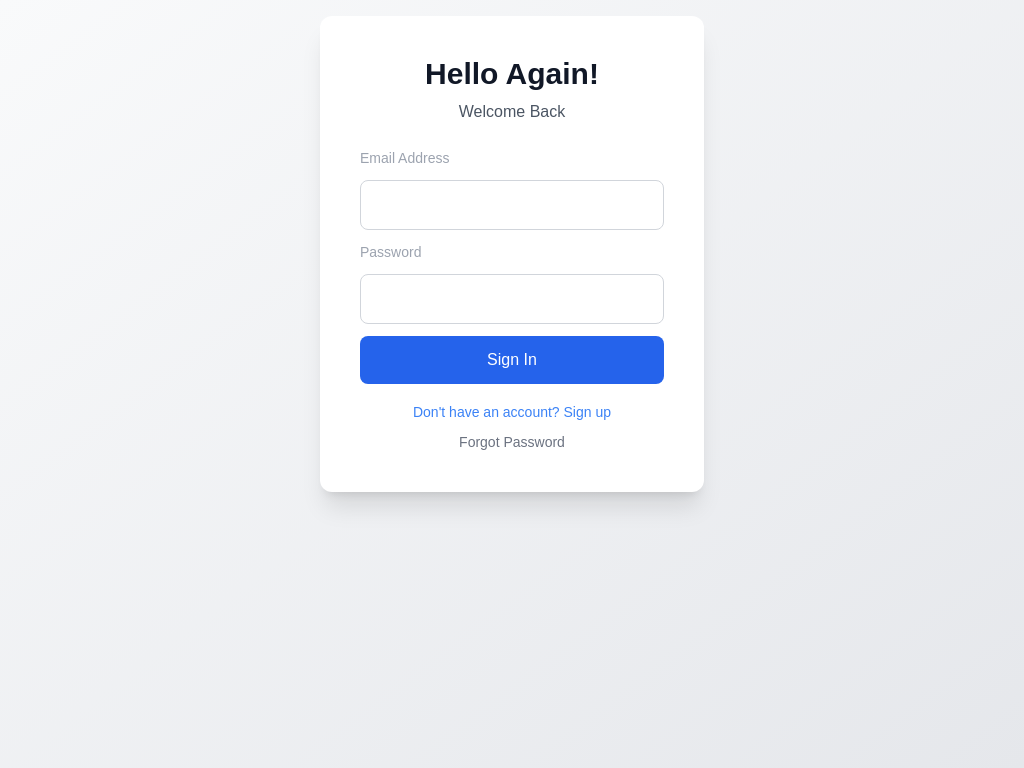
Shows error message for incorrect email
The width and height of the screenshot is (1024, 768).
Type "incorrect@email.com" into the field labelled "Email Address" at point(512, 205), box [360, 180, 664, 230]
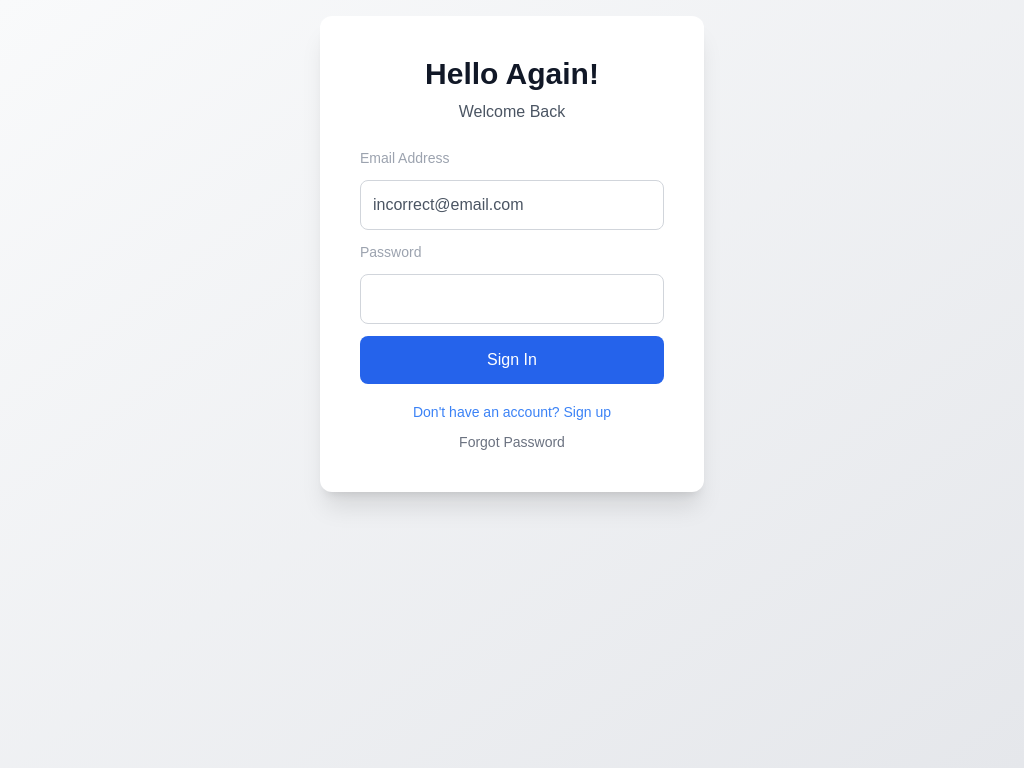
Type "password123" into the password field labelled "Password" at point(512, 299), box [360, 274, 664, 324]
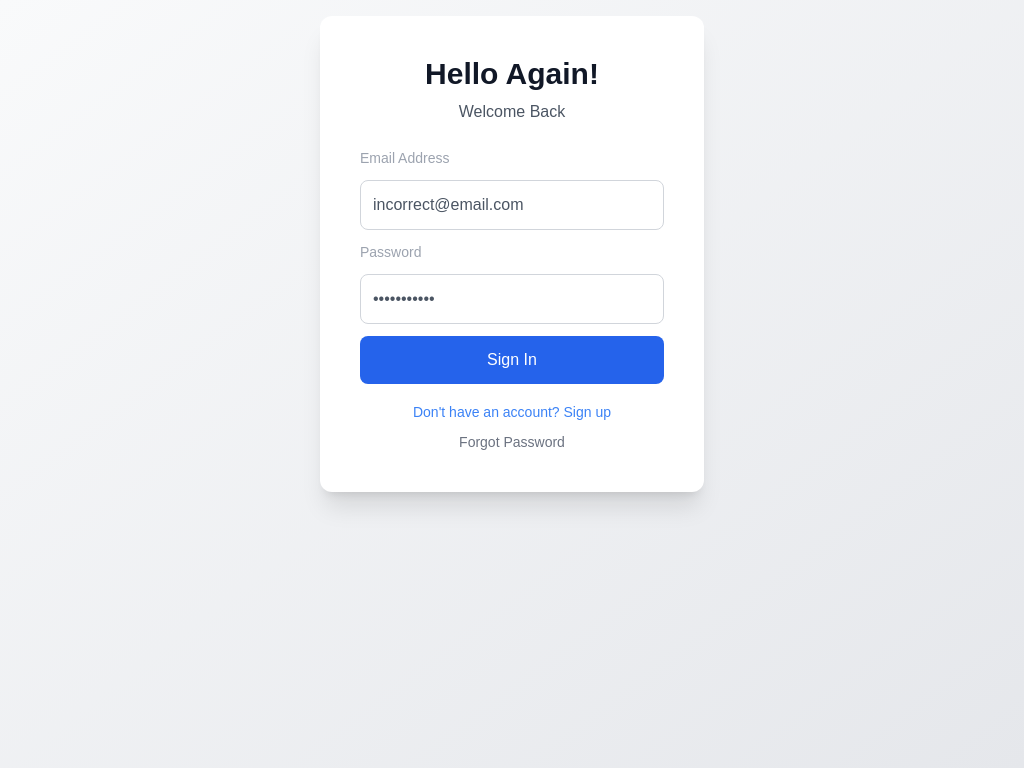
Click the button "Sign In" at point(512, 360), box [360, 336, 664, 384]
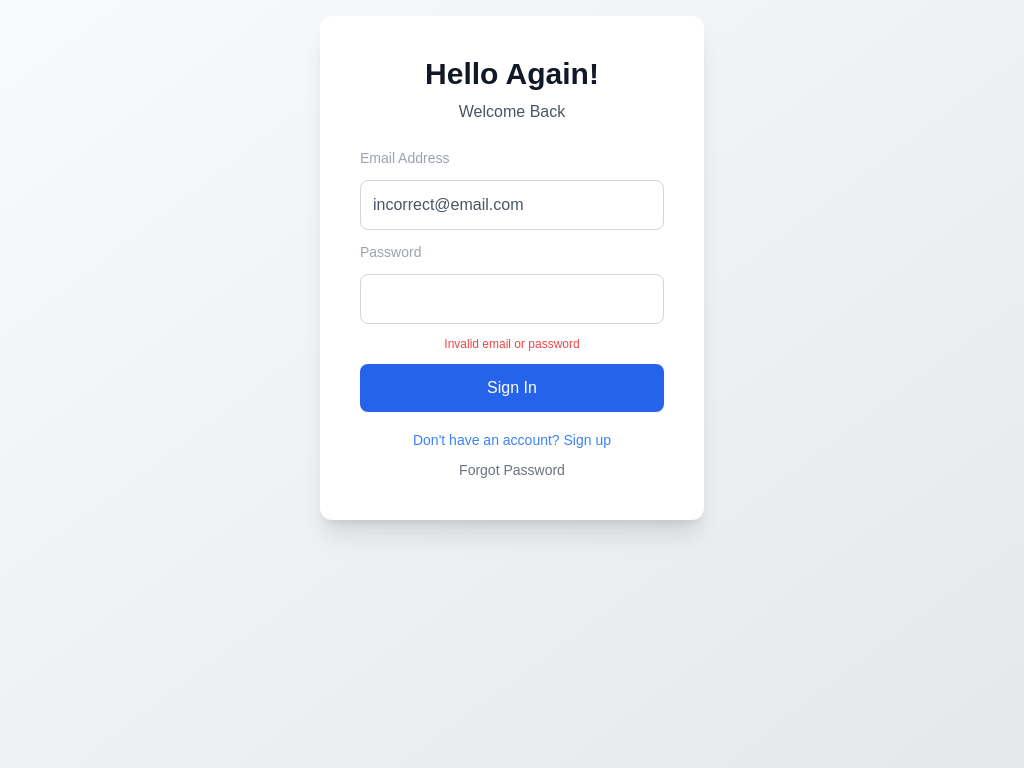
Expected: the text "Invalid email or password" is shown, [444, 337, 580, 351]
